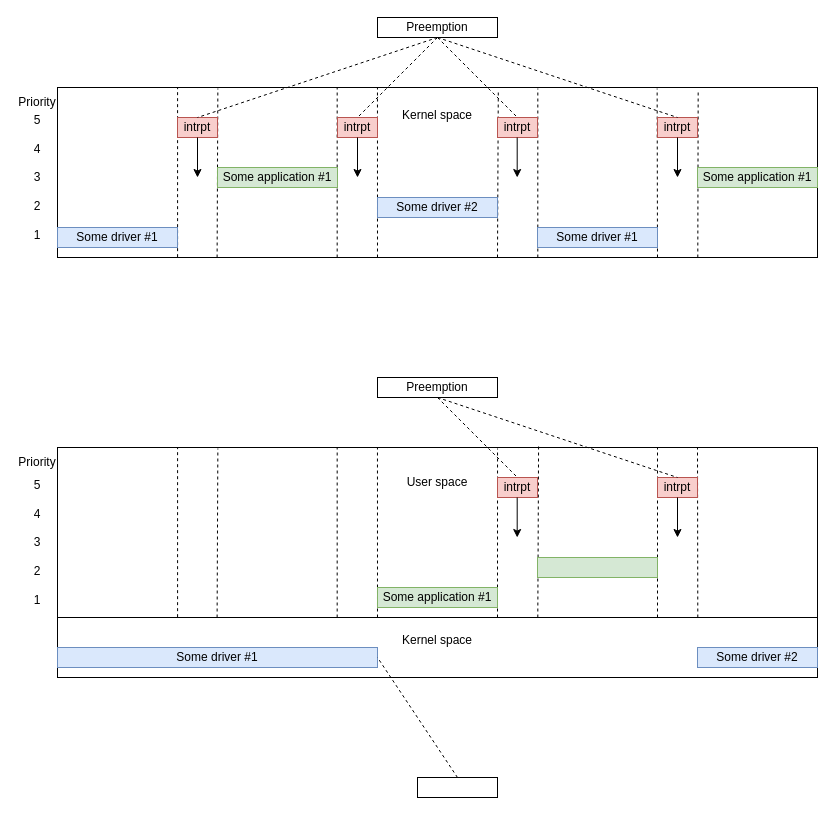
This 835x815 diagram has some shape labels left out. Here are the shapes that lost their labels. From the top down, the centre of each, then its label:
[597,567]: Some application #2
[457,787]: Finished
